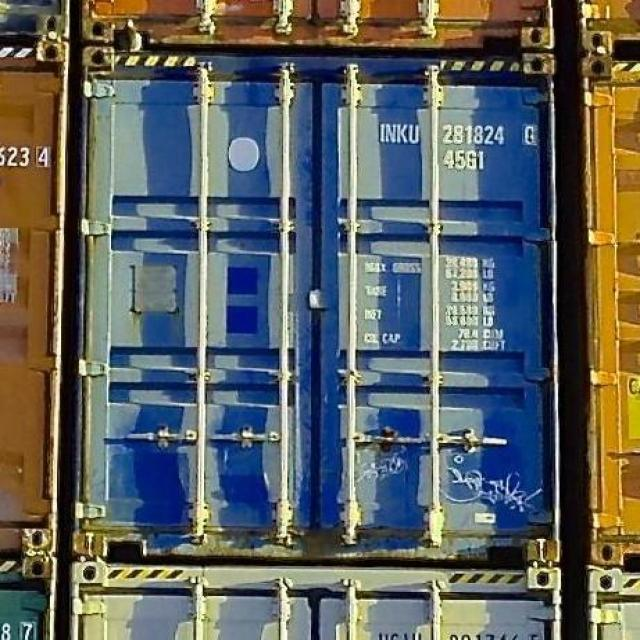ISO: (446, 148, 484, 170)
container_number: (378, 118, 542, 148)
